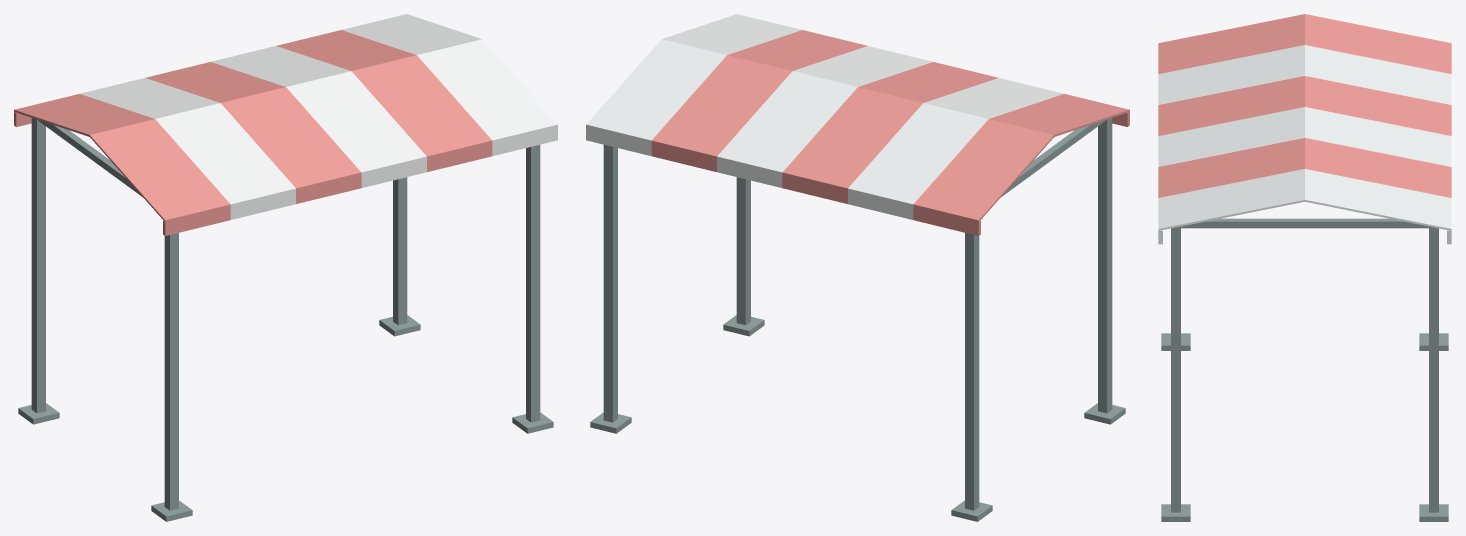
File: gardenCanopy.glb
The picture shows the model from 3 angles, left to right: view 1: azimuth 30°, elevation 25°; view 2: azimuth 150°, elevation 25°; view 3: azimuth 270°, elevation 25°; orthographic projection. The views are drawn at different scales.
Parts seen in each view (by area): view 1: gardenCanopy; view 2: gardenCanopy; view 3: gardenCanopy.
Boxes of the visible parts, box(x1,y1,x2,y2) form: gardenCanopy: box(14, 14, 557, 521); gardenCanopy: box(586, 14, 1129, 521); gardenCanopy: box(1158, 14, 1451, 521).
Bounding box in the file's own units: 1.5 × 1.22 × 1.
